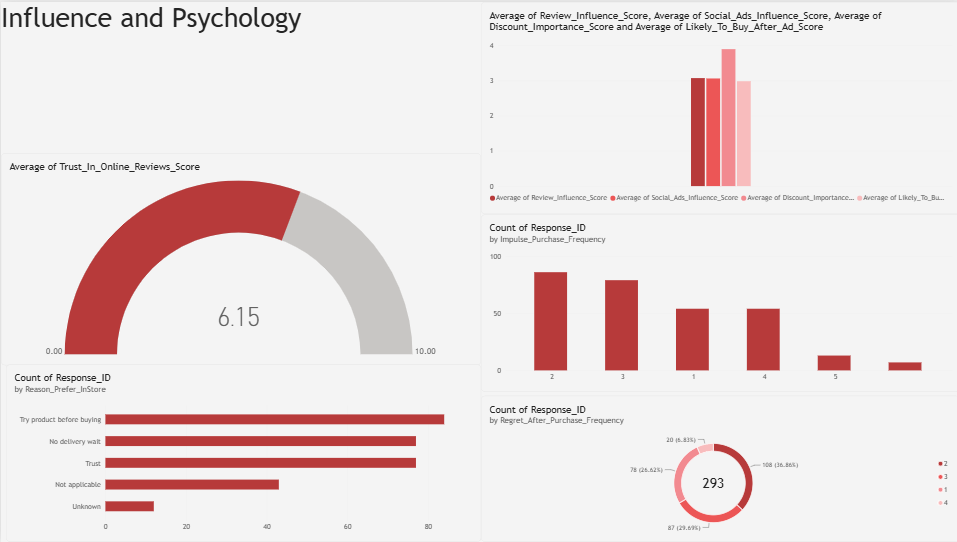

Layout of this report page (visuals, bound fields, positions):
{"tool":"powerbi","page":{"name":"Influence and Psychology","canvas":[1920,1080],"ordinal":3},"visuals":[{"type":"gauge","fields":{"Y":["Avg(consumer_shopping_behavior_survey.Trust_In_Online_Reviews_Score)"]},"box":[0,302,960,424],"z":0},{"type":"clusteredColumnChart","fields":{"Y":["Avg(consumer_shopping_behavior_survey.Review_Influence_Score)","Avg(consumer_shopping_behavior_survey.Social_Ads_Influence_Score)","Avg(consumer_shopping_behavior_survey.Discount_Importance_Score)","Avg(consumer_shopping_behavior_survey.Likely_To_Buy_After_Ad_Score)"]},"box":[960,0,960,424],"z":1000},{"type":"clusteredBarChart","fields":{"Category":["consumer_shopping_behavior_survey.Reason_Prefer_InStore"],"Y":["CountNonNull(consumer_shopping_behavior_survey.Response_ID)"]},"box":[10,726,950,354],"z":2000},{"type":"clusteredColumnChart","fields":{"Category":["consumer_shopping_behavior_survey.Impulse_Purchase_Frequency"],"Y":["CountNonNull(consumer_shopping_behavior_survey.Response_ID)"]},"box":[960,424,960,354],"z":2001},{"type":"donutChart","fields":{"Category":["consumer_shopping_behavior_survey.Regret_After_Purchase_Frequency"],"Y":["CountNonNull(consumer_shopping_behavior_survey.Response_ID)"]},"box":[960,788,960,292],"z":2002},{"type":"textbox","box":[0,0,960,302],"z":2003}]}

Visuals, with their boxes in screenshot pixels (x1, y1, x2, y2), scaled from the page's 1920x1080 canvas onto the 957x542 screenshot:
gauge - Avg(consumer_shopping_behavior_survey.Trust_In_Online_Reviews_Score): Rect(0, 152, 478, 364)
clusteredColumnChart - Avg(consumer_shopping_behavior_survey.Review_Influence_Score) x Avg(consumer_shopping_behavior_survey.Social_Ads_Influence_Score): Rect(478, 0, 956, 213)
clusteredBarChart - consumer_shopping_behavior_survey.Reason_Prefer_InStore x CountNonNull(consumer_shopping_behavior_survey.Response_ID): Rect(5, 364, 478, 541)
clusteredColumnChart - consumer_shopping_behavior_survey.Impulse_Purchase_Frequency x CountNonNull(consumer_shopping_behavior_survey.Response_ID): Rect(478, 213, 956, 390)
donutChart - consumer_shopping_behavior_survey.Regret_After_Purchase_Frequency x CountNonNull(consumer_shopping_behavior_survey.Response_ID): Rect(478, 395, 956, 541)
textbox: Rect(0, 0, 478, 152)
